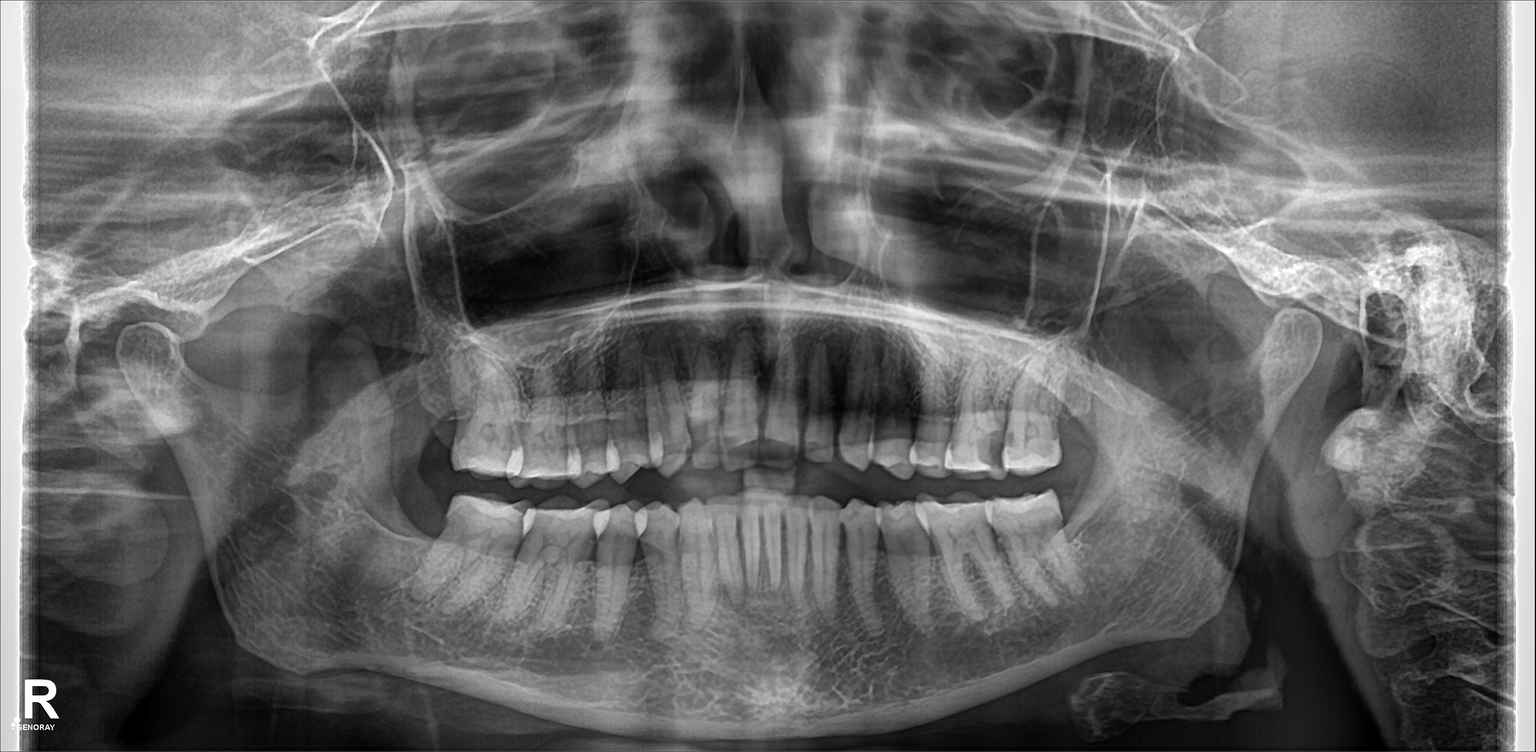Dental Caries: (976, 426, 1009, 463)
Missing Tooth: (412, 383, 454, 472), (406, 497, 448, 570), (1065, 382, 1094, 456)
